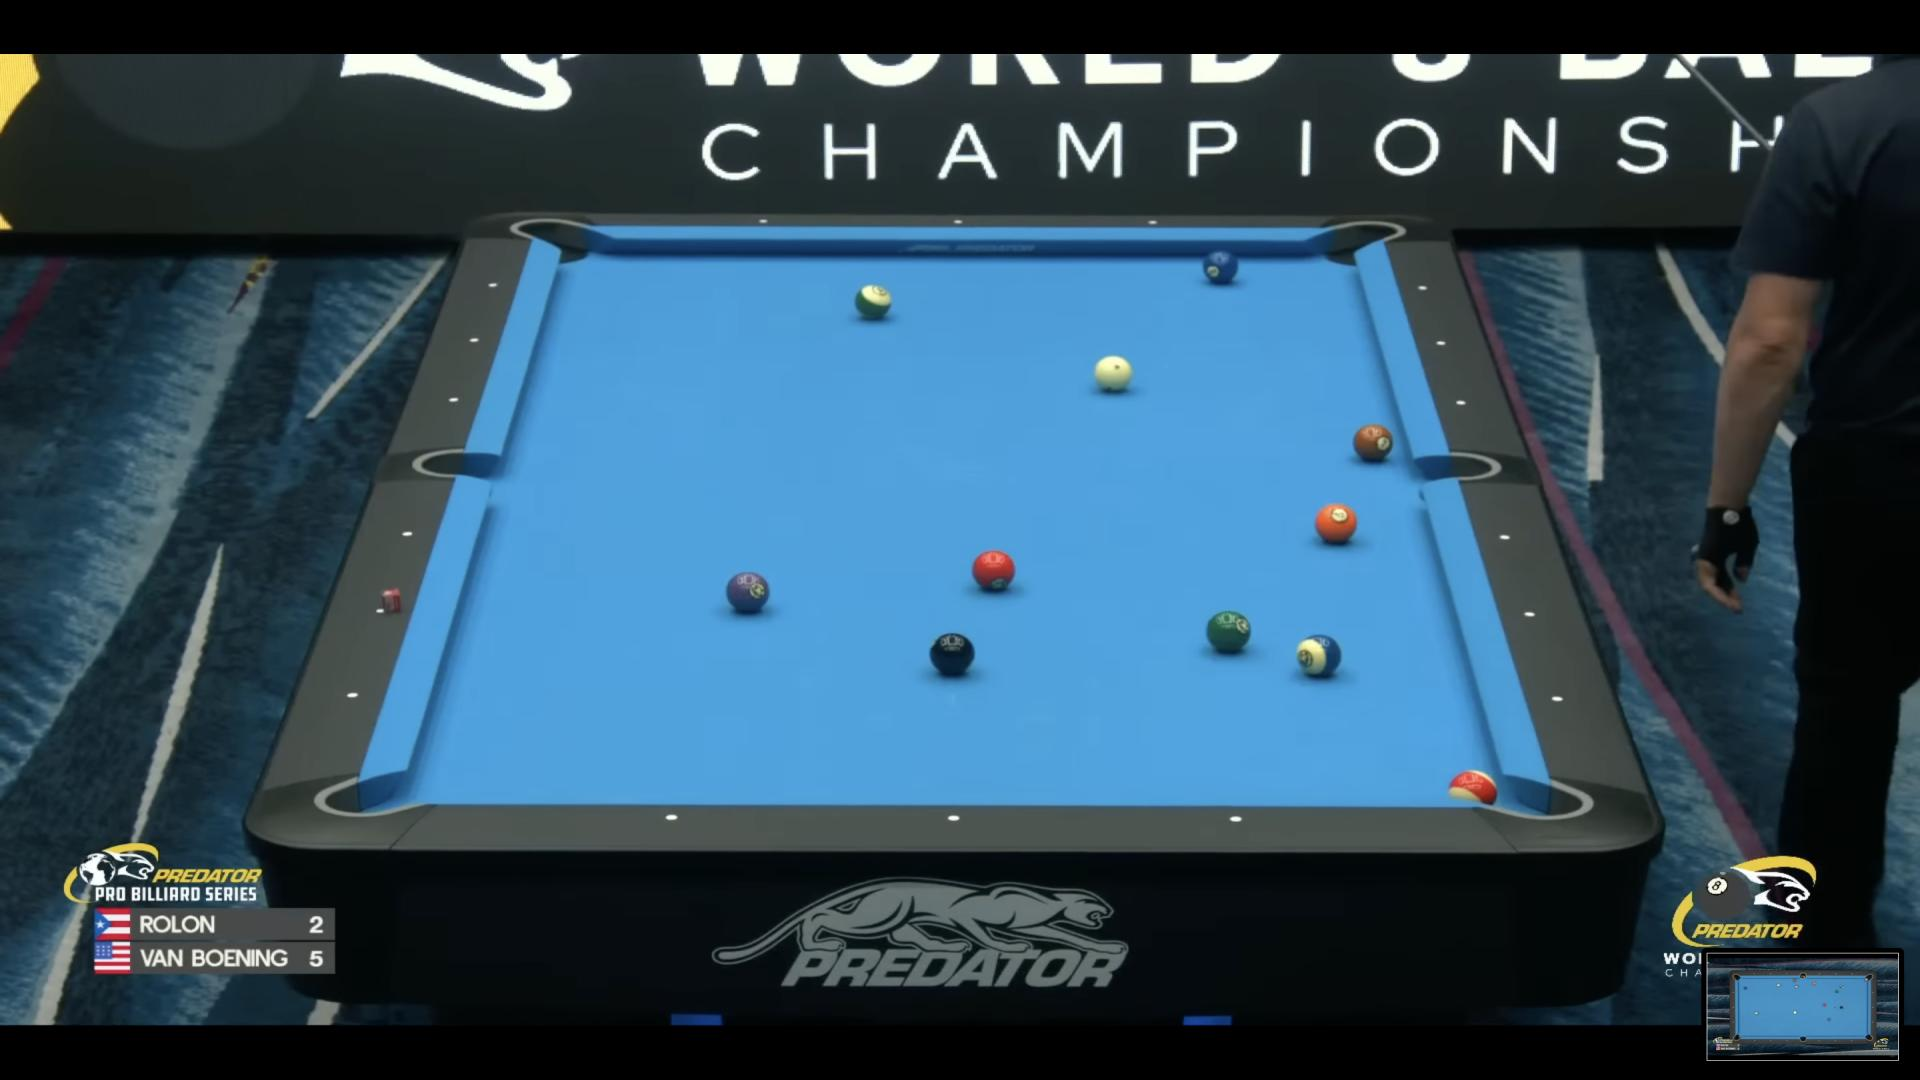Black: (928, 633, 975, 674)
Cue: (1095, 356, 1133, 390)
Dot: (1548, 690, 1567, 707), (1520, 605, 1539, 622), (1497, 529, 1515, 546), (665, 810, 680, 824), (947, 811, 963, 825), (1228, 812, 1244, 827), (373, 604, 386, 617), (345, 690, 359, 702), (401, 529, 414, 541), (1456, 397, 1468, 409), (1435, 338, 1447, 349), (1418, 282, 1429, 294), (468, 335, 480, 345), (488, 280, 498, 290), (952, 216, 963, 227), (1149, 218, 1159, 228), (447, 396, 459, 405), (757, 216, 769, 225)
Solid: (1207, 611, 1251, 651), (972, 550, 1015, 589), (725, 572, 770, 611), (1315, 504, 1357, 542), (1353, 423, 1393, 460), (1203, 251, 1238, 282)
Striped: (1296, 634, 1341, 676), (1451, 770, 1497, 804), (855, 285, 891, 316)
